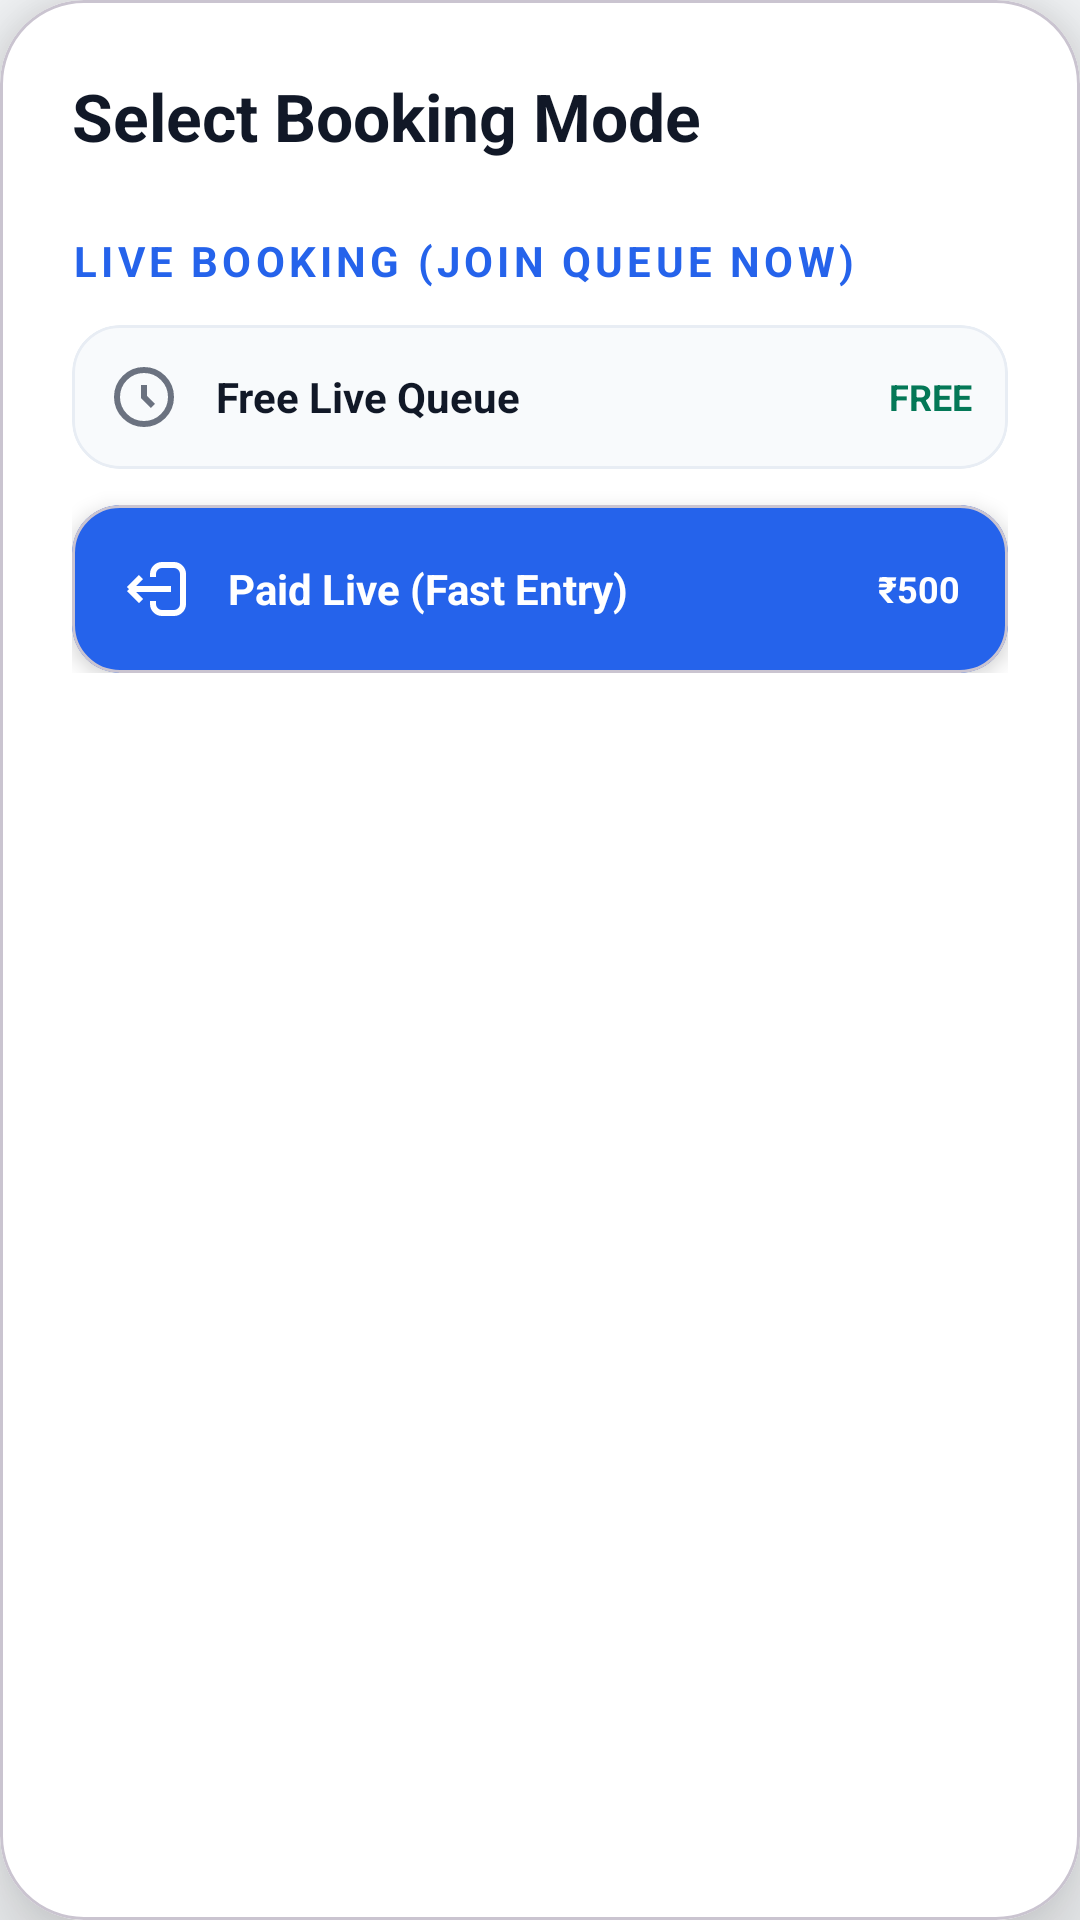

Point at icon controls on the screen. Image size 1080 × 1920, points as [x,y].
clock: [144,397]
